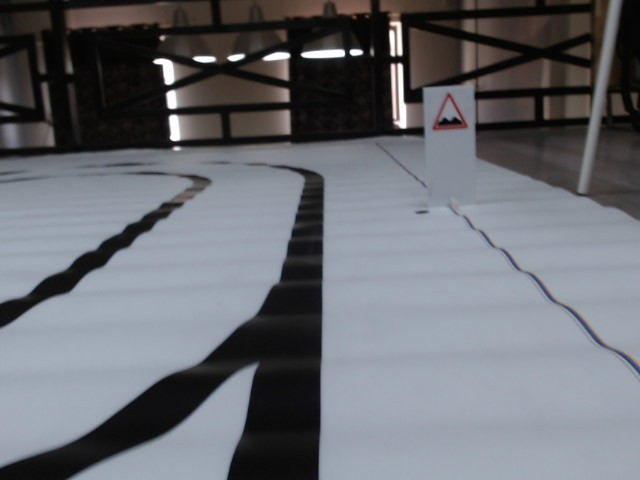Nerov: (429, 91, 469, 133)
